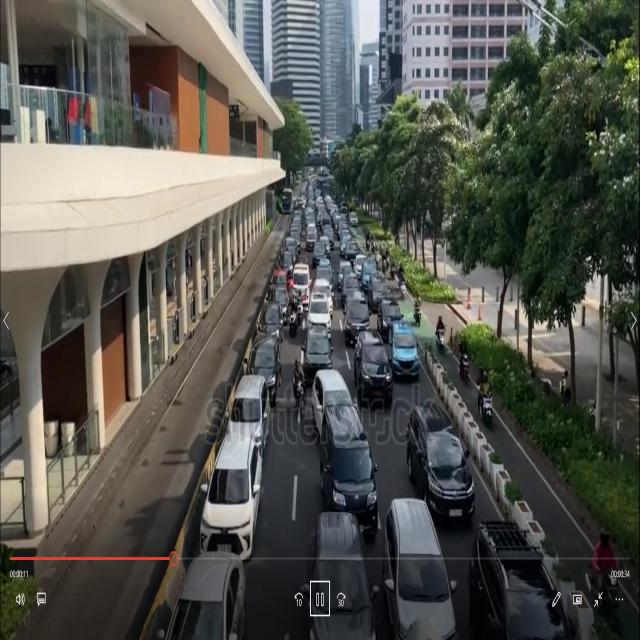Ambulance: (291, 256, 313, 312)
